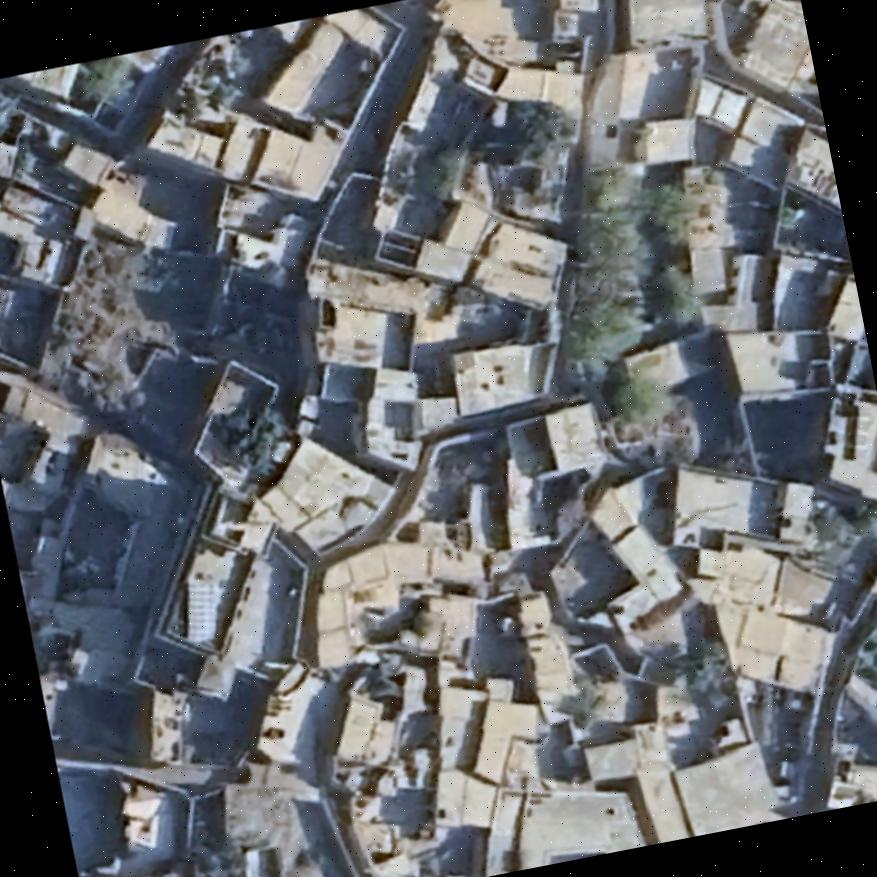Solarpanel: (186, 574, 218, 642)
